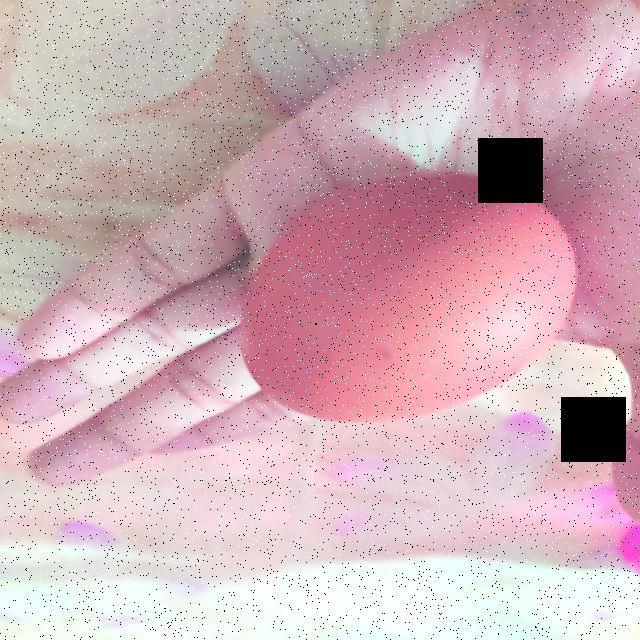egg: (235, 172, 579, 426)
